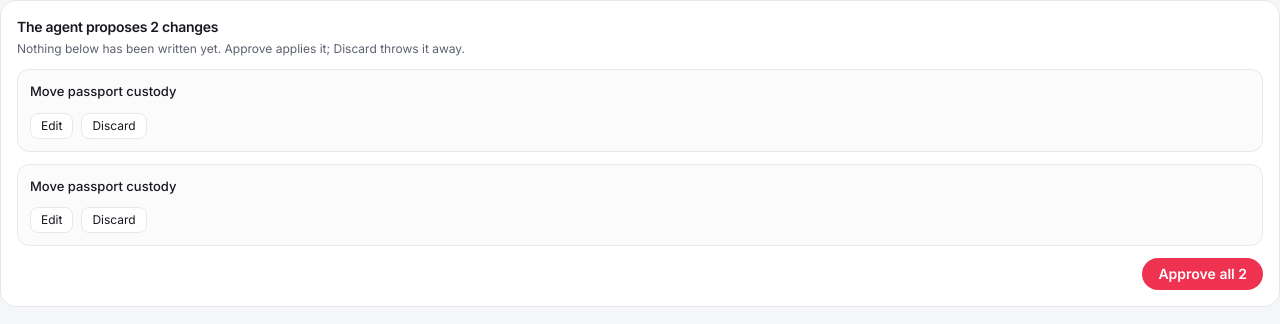
Scenario: ProposalCard › reports a partial failure per item, never as success
This screenshot has width=1280, height=324.
Click the button "Approve all 2" at (1203, 274), box [1142,258,1263,290]
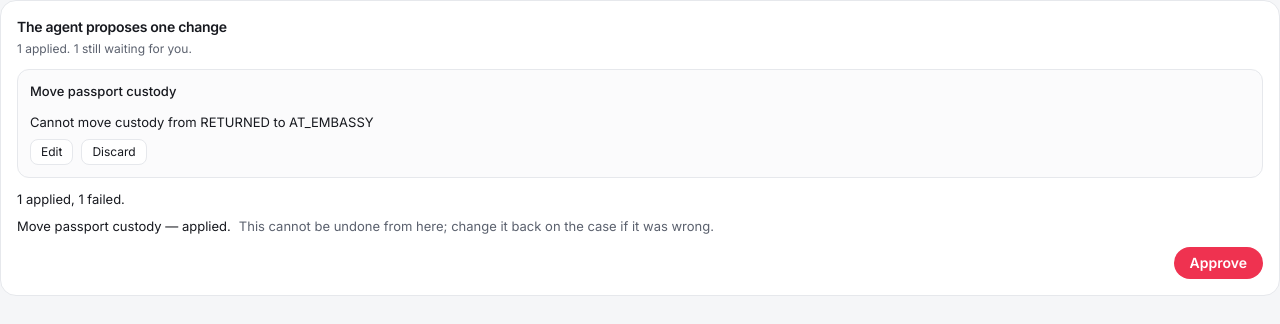
Expected: the text "1 applied, 1 failed." is shown, [17,191,125,207]
Expected: the text "Cannot move custody from RETURNED to AT_EMBASSY" is shown, [30,114,374,130]
Expected: the text "Nothing below has been written yet" is gone
